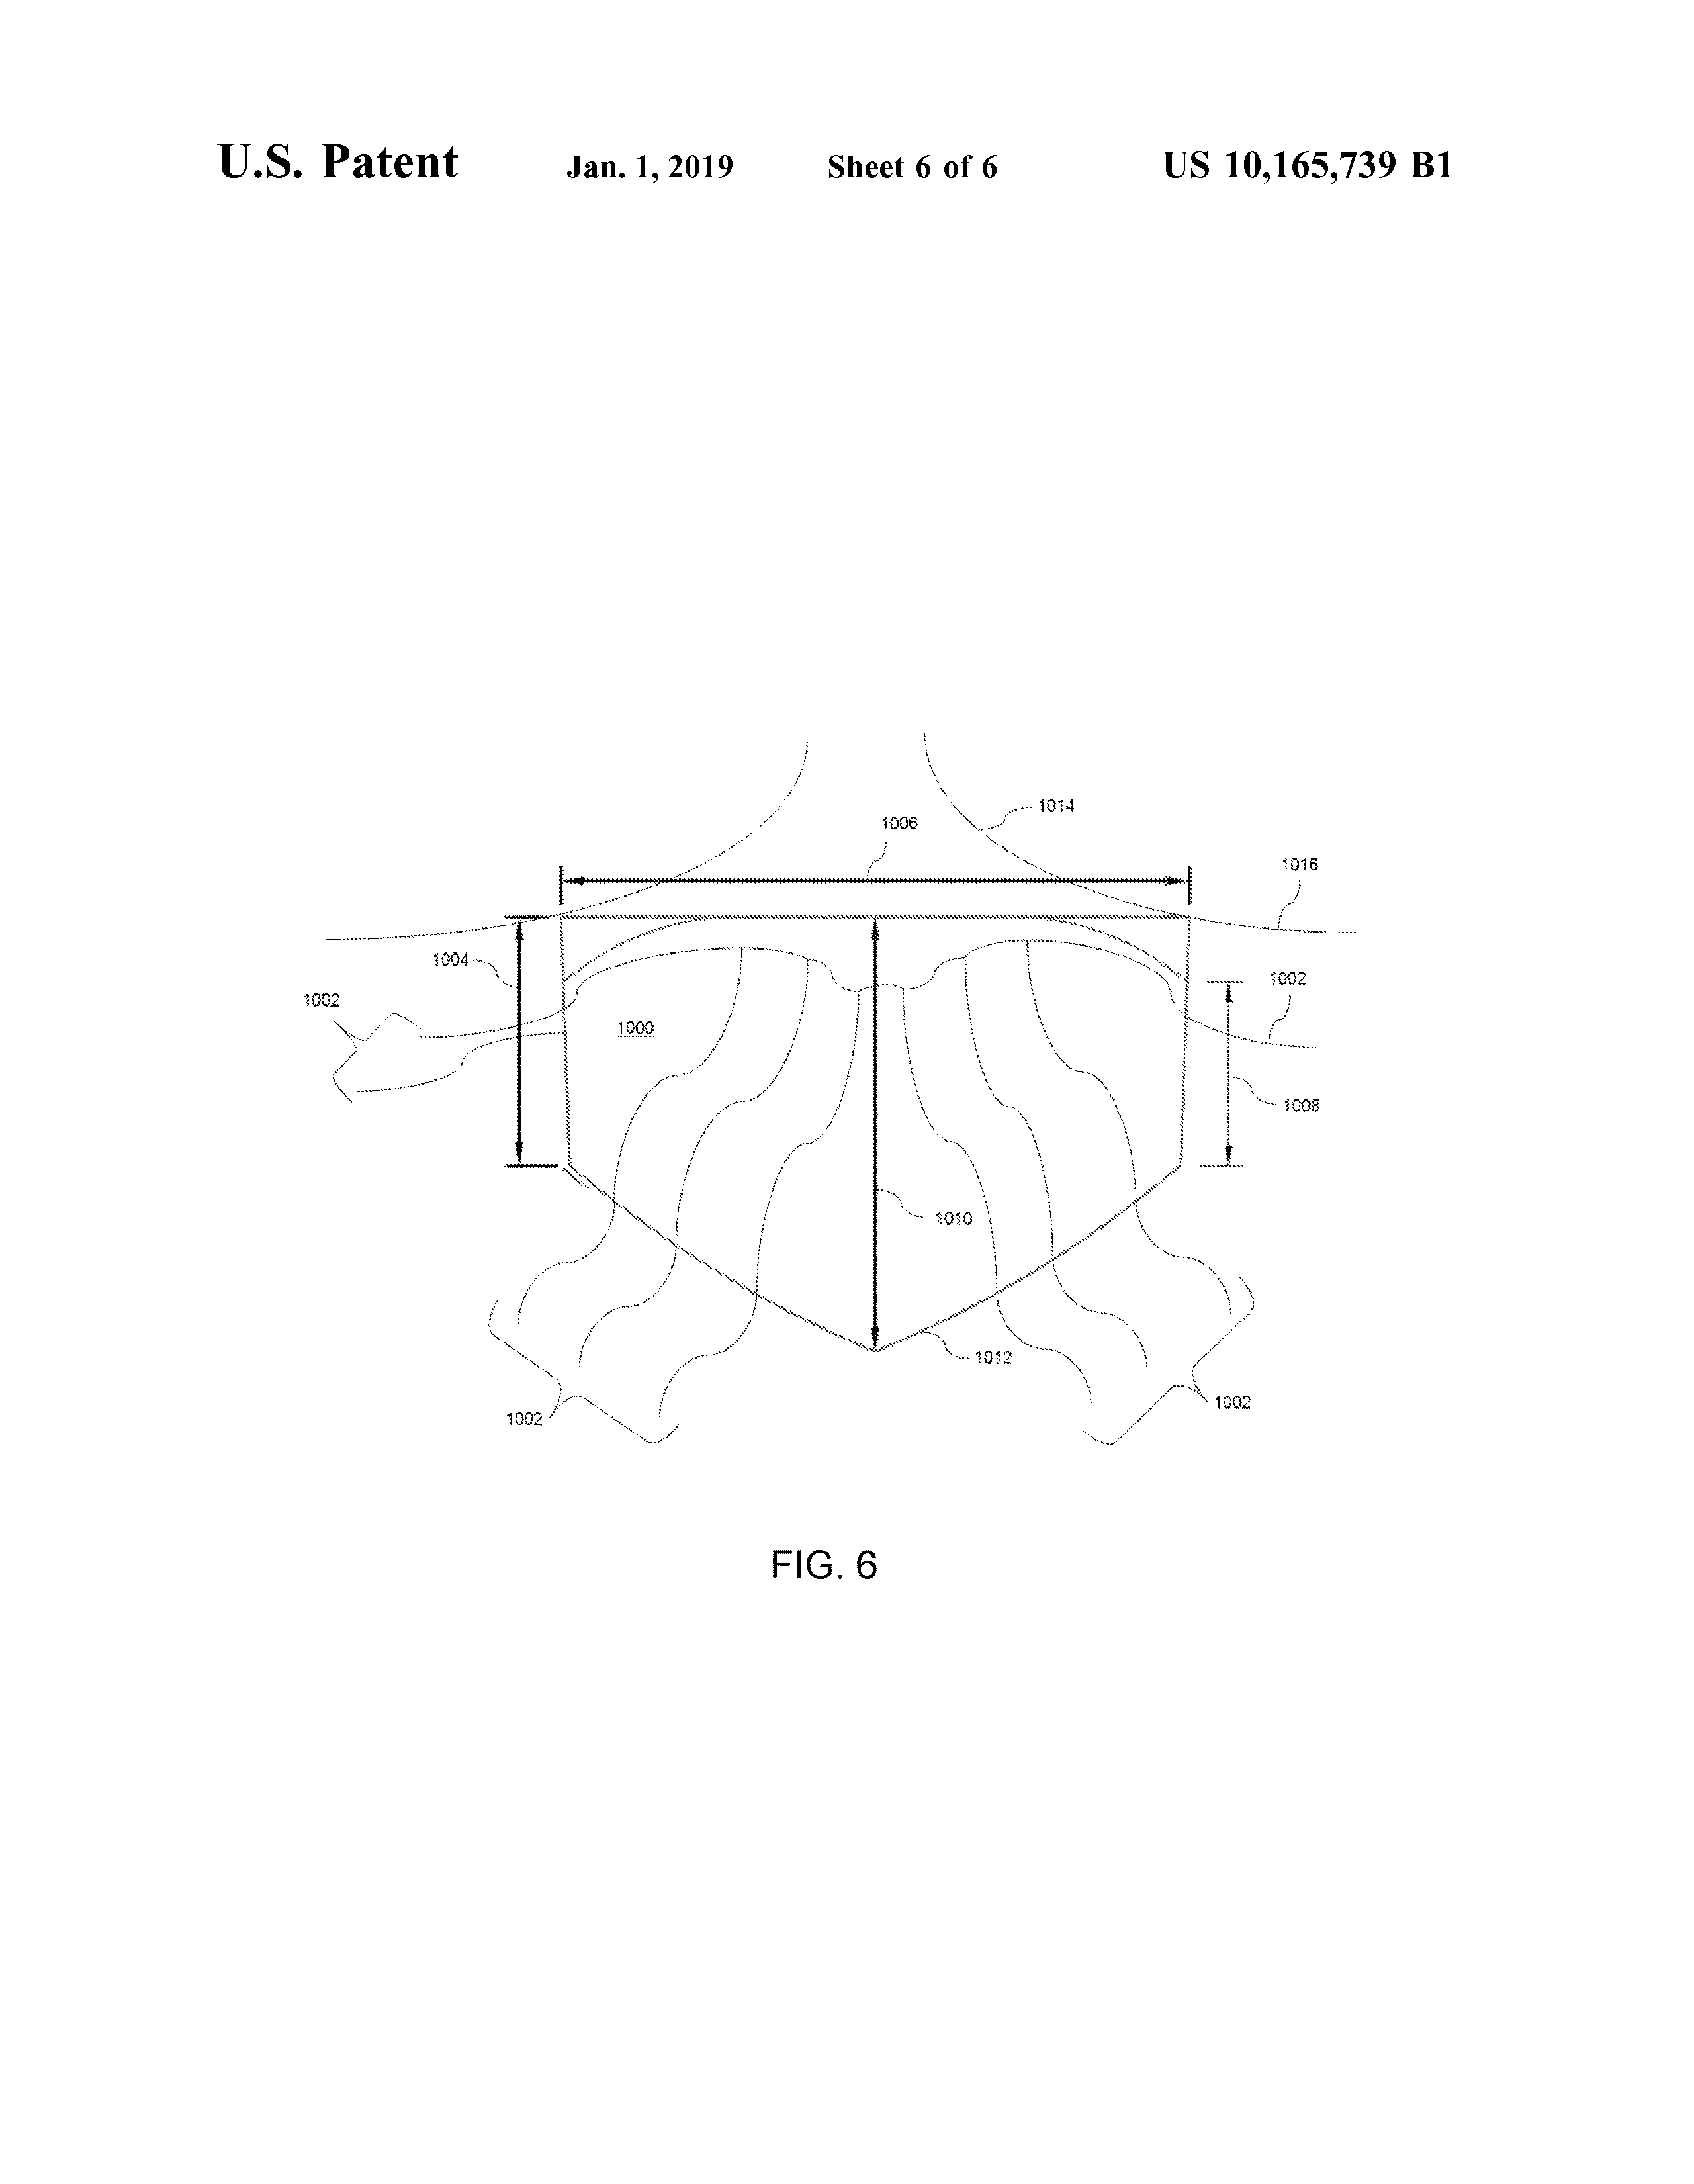patent image: (314, 700, 1356, 1704)
